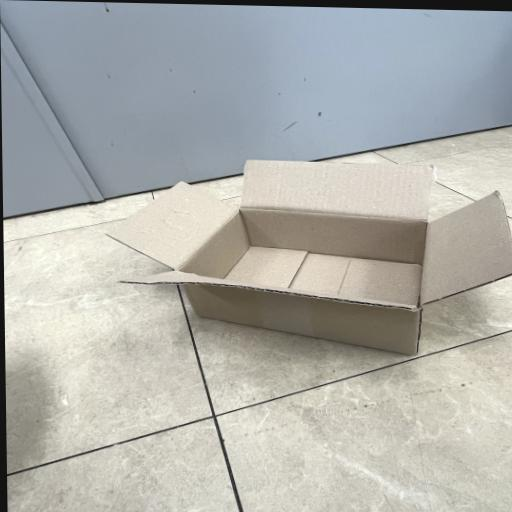box: (105, 159, 512, 356)
opened: (107, 160, 512, 312)
